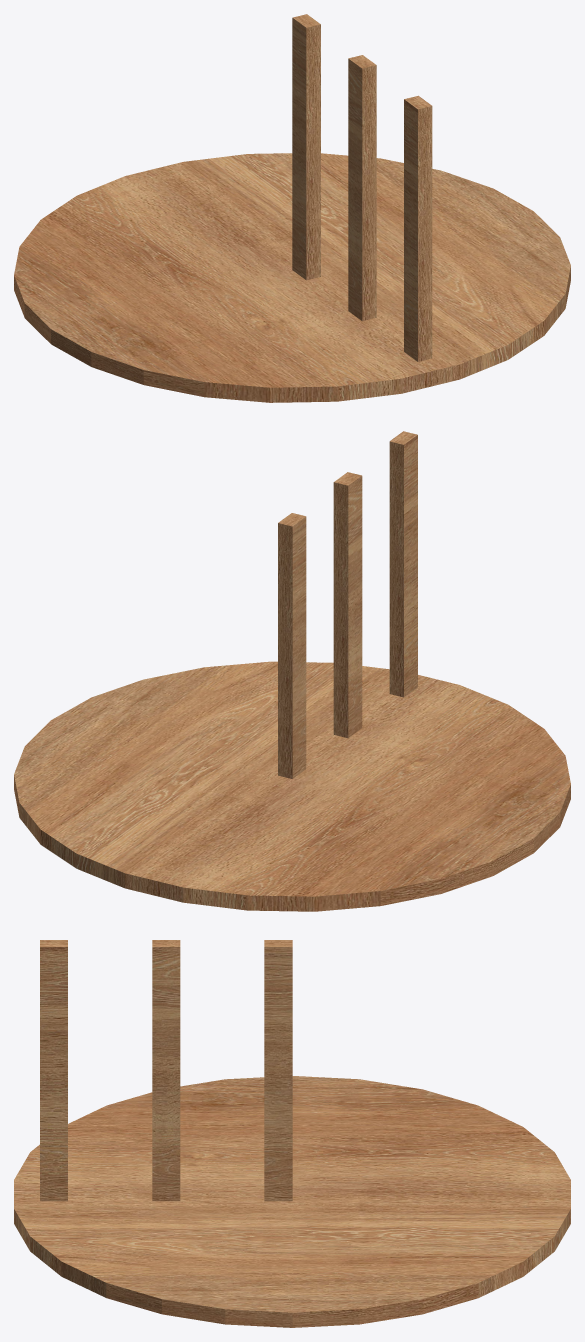
The model's file is 33007_gpt-only.glb.
The picture shows the model from 3 angles, top to bottom: view 1: azimuth 30°, elevation 25°; view 2: azimuth 150°, elevation 25°; view 3: azimuth 270°, elevation 25°; orthographic projection.
Parts seen in each view (by area): view 1: ParentEmpty; view 2: ParentEmpty; view 3: ParentEmpty.
Part boxes in pixels (x1=…): ParentEmpty: x1=14, y1=14, x2=570, y2=402; ParentEmpty: x1=14, y1=431, x2=570, y2=911; ParentEmpty: x1=14, y1=940, x2=570, y2=1327.
Size of the model in its own units: 1 by 0.5302 by 0.9927.
1 material, 1 textured.
